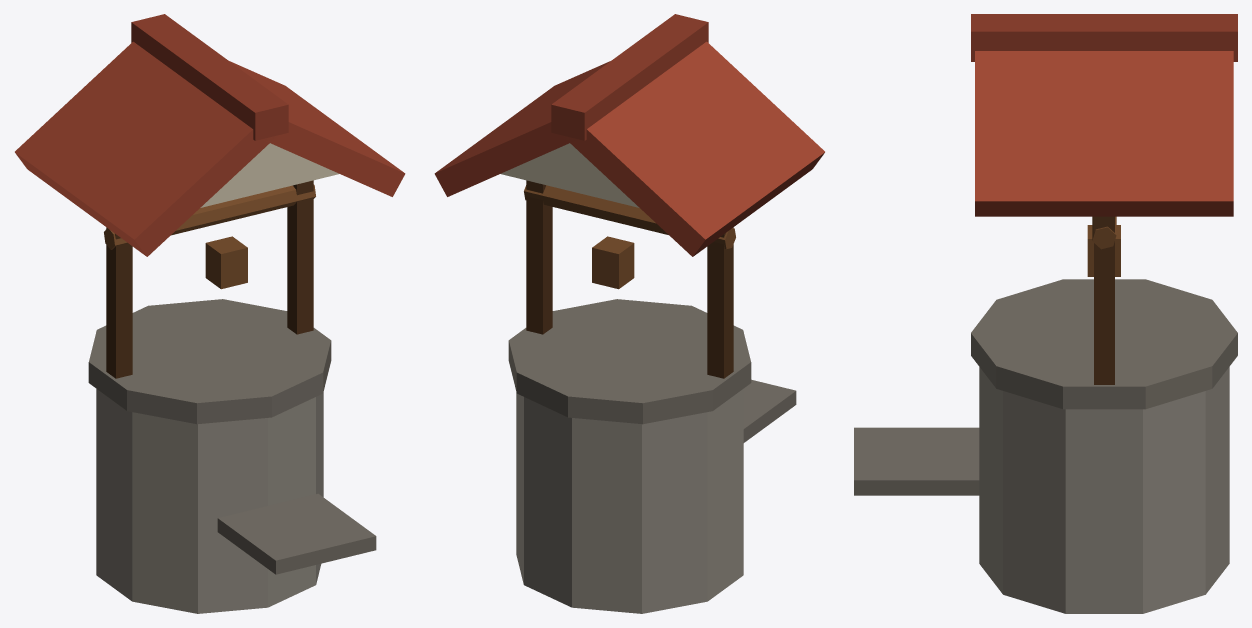
Rendered from well_broken.glb.
The picture shows the model from 3 angles, left to right: view 1: azimuth 30°, elevation 25°; view 2: azimuth 150°, elevation 25°; view 3: azimuth 270°, elevation 25°; orthographic projection. The views are drawn at different scales.
Visible parts, largest first — view 1: well_piece3, well_piece0, well_piece1, well_piece4, well_piece2, well_piece5; view 2: well_piece3, well_piece0, well_piece2, well_piece5, well_piece1, well_piece4; view 3: well_piece3, well_piece1, well_piece4, well_piece0, well_piece5, well_piece2.
Boxes of the visible parts, x1,y1,x2,y2 form: well_piece3: [96, 299, 323, 613]; well_piece0: [25, 14, 318, 430]; well_piece1: [127, 66, 405, 366]; well_piece4: [185, 348, 376, 574]; well_piece2: [15, 134, 208, 464]; well_piece5: [193, 61, 328, 378]; well_piece3: [508, 330, 768, 613]; well_piece0: [495, 52, 817, 347]; well_piece2: [528, 221, 751, 495]; well_piece5: [434, 124, 695, 343]; well_piece1: [481, 14, 824, 330]; well_piece4: [565, 299, 796, 424]; well_piece3: [929, 322, 1229, 613]; well_piece1: [971, 14, 1137, 421]; well_piece4: [854, 296, 1077, 495]; well_piece0: [1008, 14, 1237, 325]; well_piece5: [1038, 54, 1237, 407]; well_piece2: [1033, 279, 1237, 386].
Bounding box in the file's own units: 0.8086 × 1.43 × 0.92.
